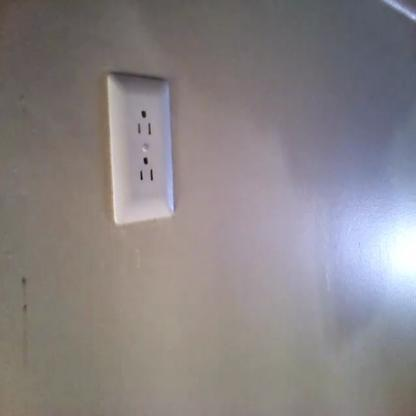OUTLET: (109, 78, 171, 226)
